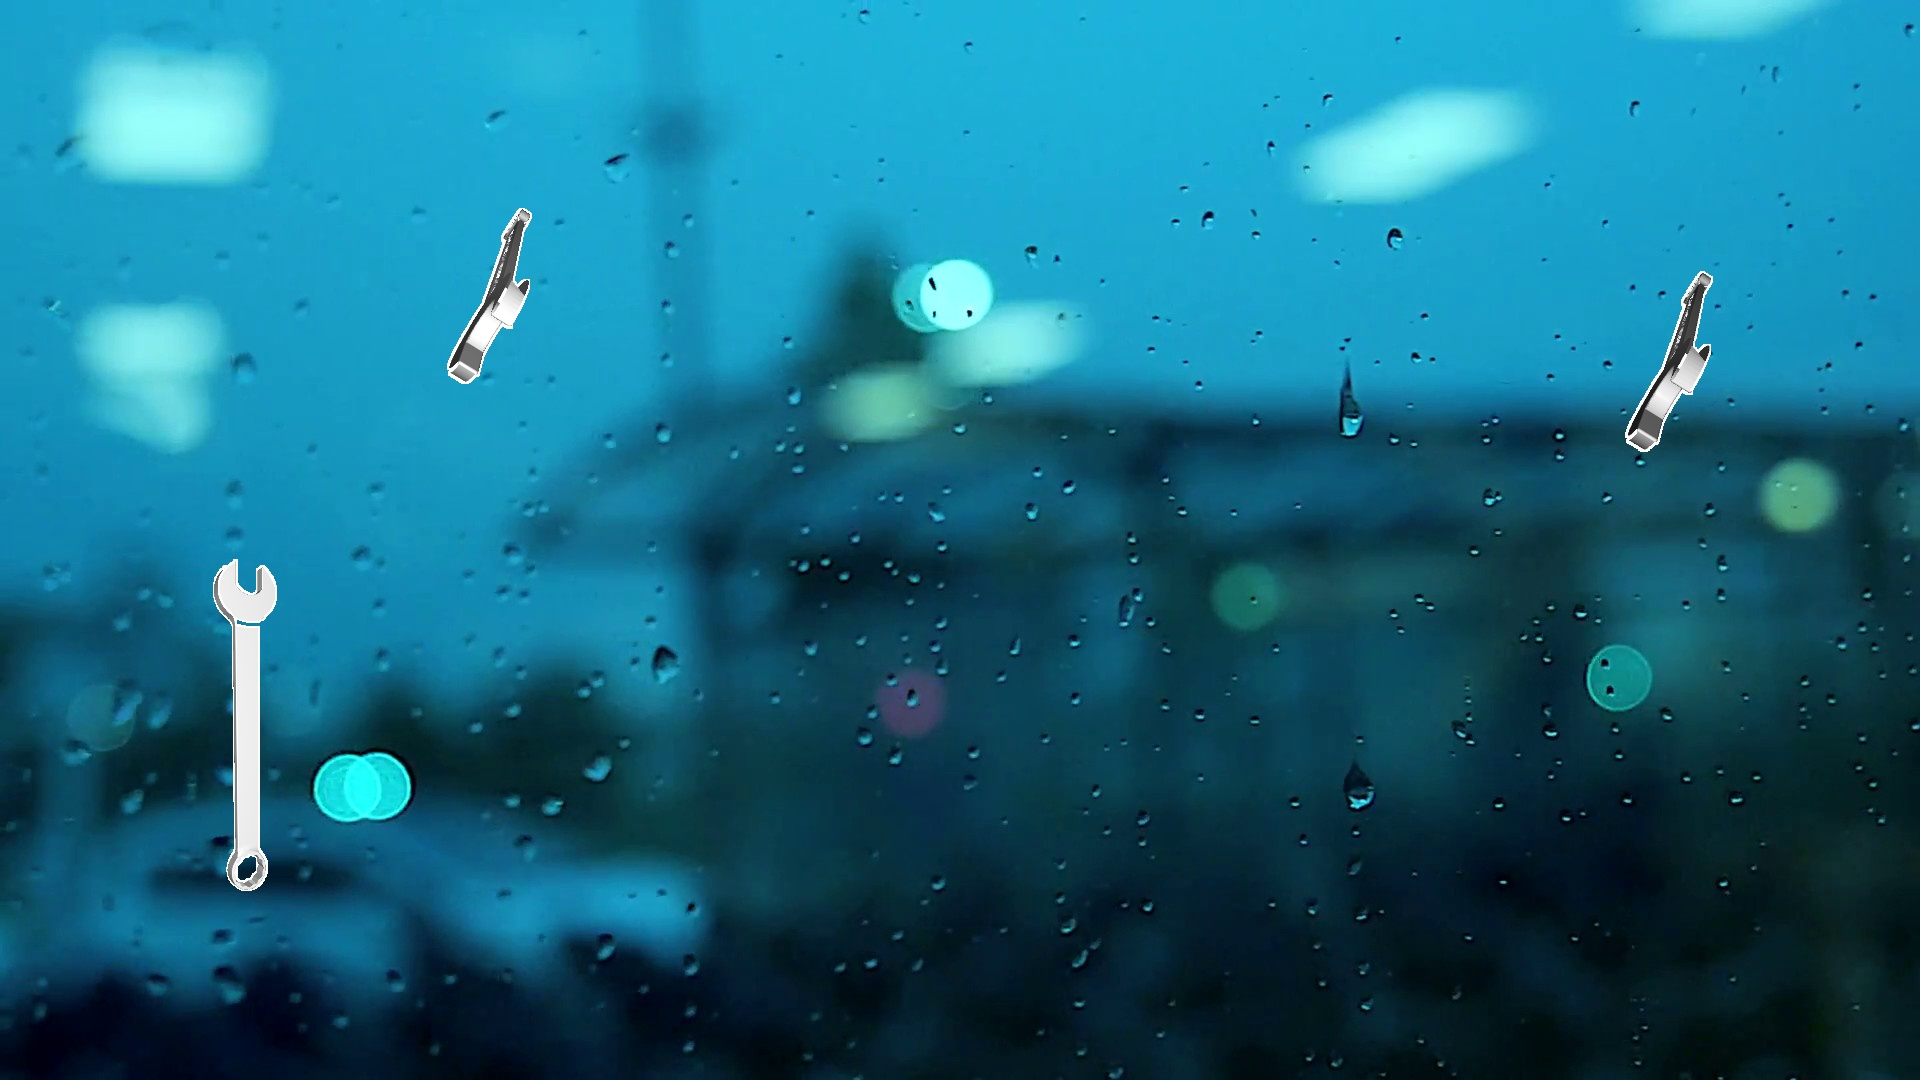Mixed Key: (214, 559, 276, 890), (1625, 272, 1712, 451), (447, 208, 531, 382)
